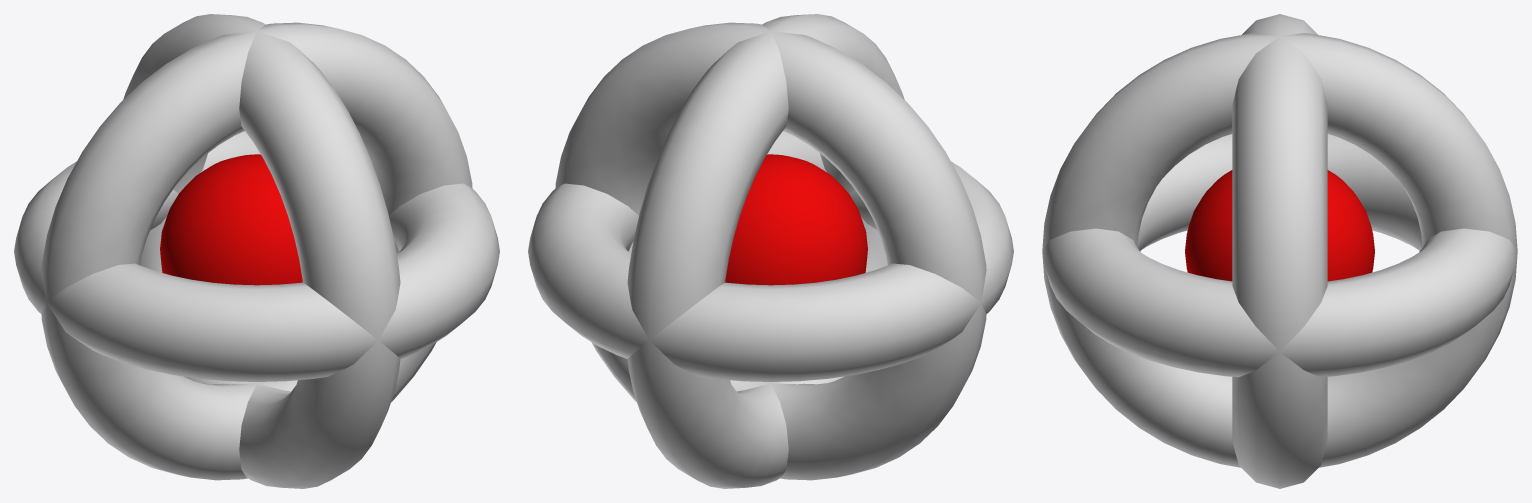
The model's file is Lob.dae.
The picture shows the model from 3 angles, left to right: view 1: azimuth 30°, elevation 25°; view 2: azimuth 150°, elevation 25°; view 3: azimuth 270°, elevation 25°; orthographic projection. The views are drawn at different scales.
Visible parts, largest first — view 1: LobOuter; view 2: LobOuter; view 3: LobOuter.
Part boxes in pixels (x1=…): LobOuter: x1=14, y1=14, x2=499, y2=488; LobOuter: x1=528, y1=14, x2=1013, y2=488; LobOuter: x1=1042, y1=14, x2=1517, y2=488.
Bounding box in the file's own units: 2.5 × 2.5 × 2.5.
